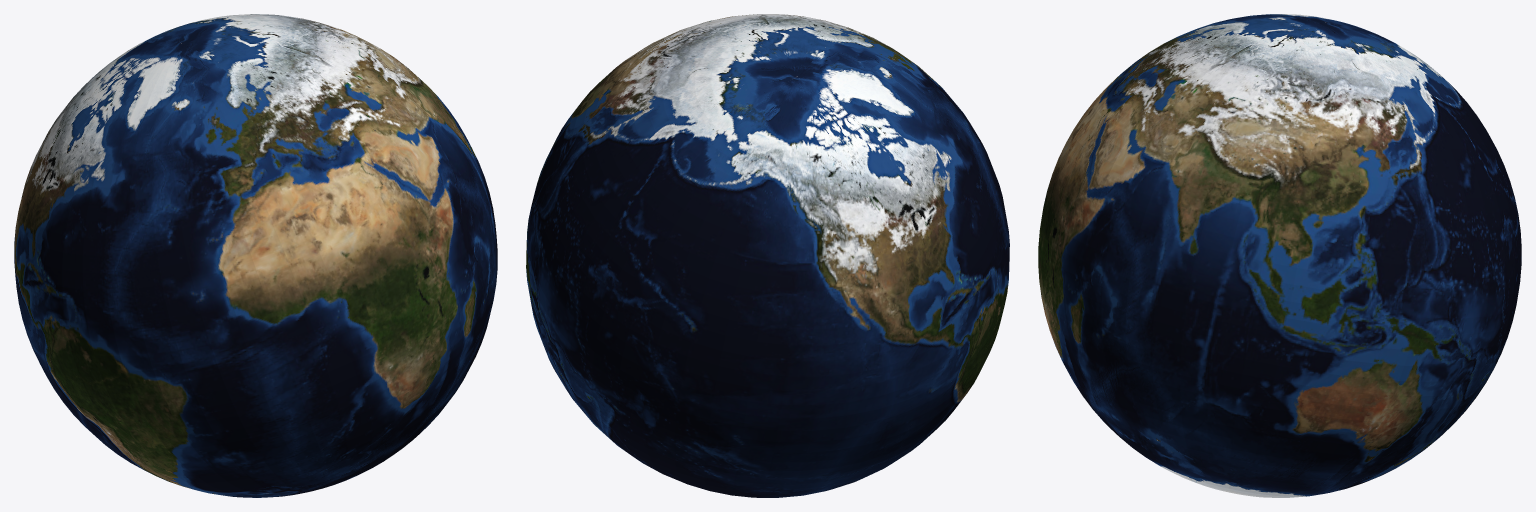
File: earth.obj
The picture shows the model from 3 angles, left to right: view 1: azimuth 30°, elevation 25°; view 2: azimuth 150°, elevation 25°; view 3: azimuth 270°, elevation 25°; orthographic projection.
Parts seen in each view (by area): view 1: Plane; view 2: Plane; view 3: Plane.
Boxes of the visible parts, bbox=[...] form: Plane: bbox=[14, 14, 497, 497]; Plane: bbox=[526, 14, 1009, 497]; Plane: bbox=[1038, 14, 1521, 497].
Bounding box in the file's own units: 2.61 × 2.61 × 2.61.
Materials: 1 (1 with a texture image).
